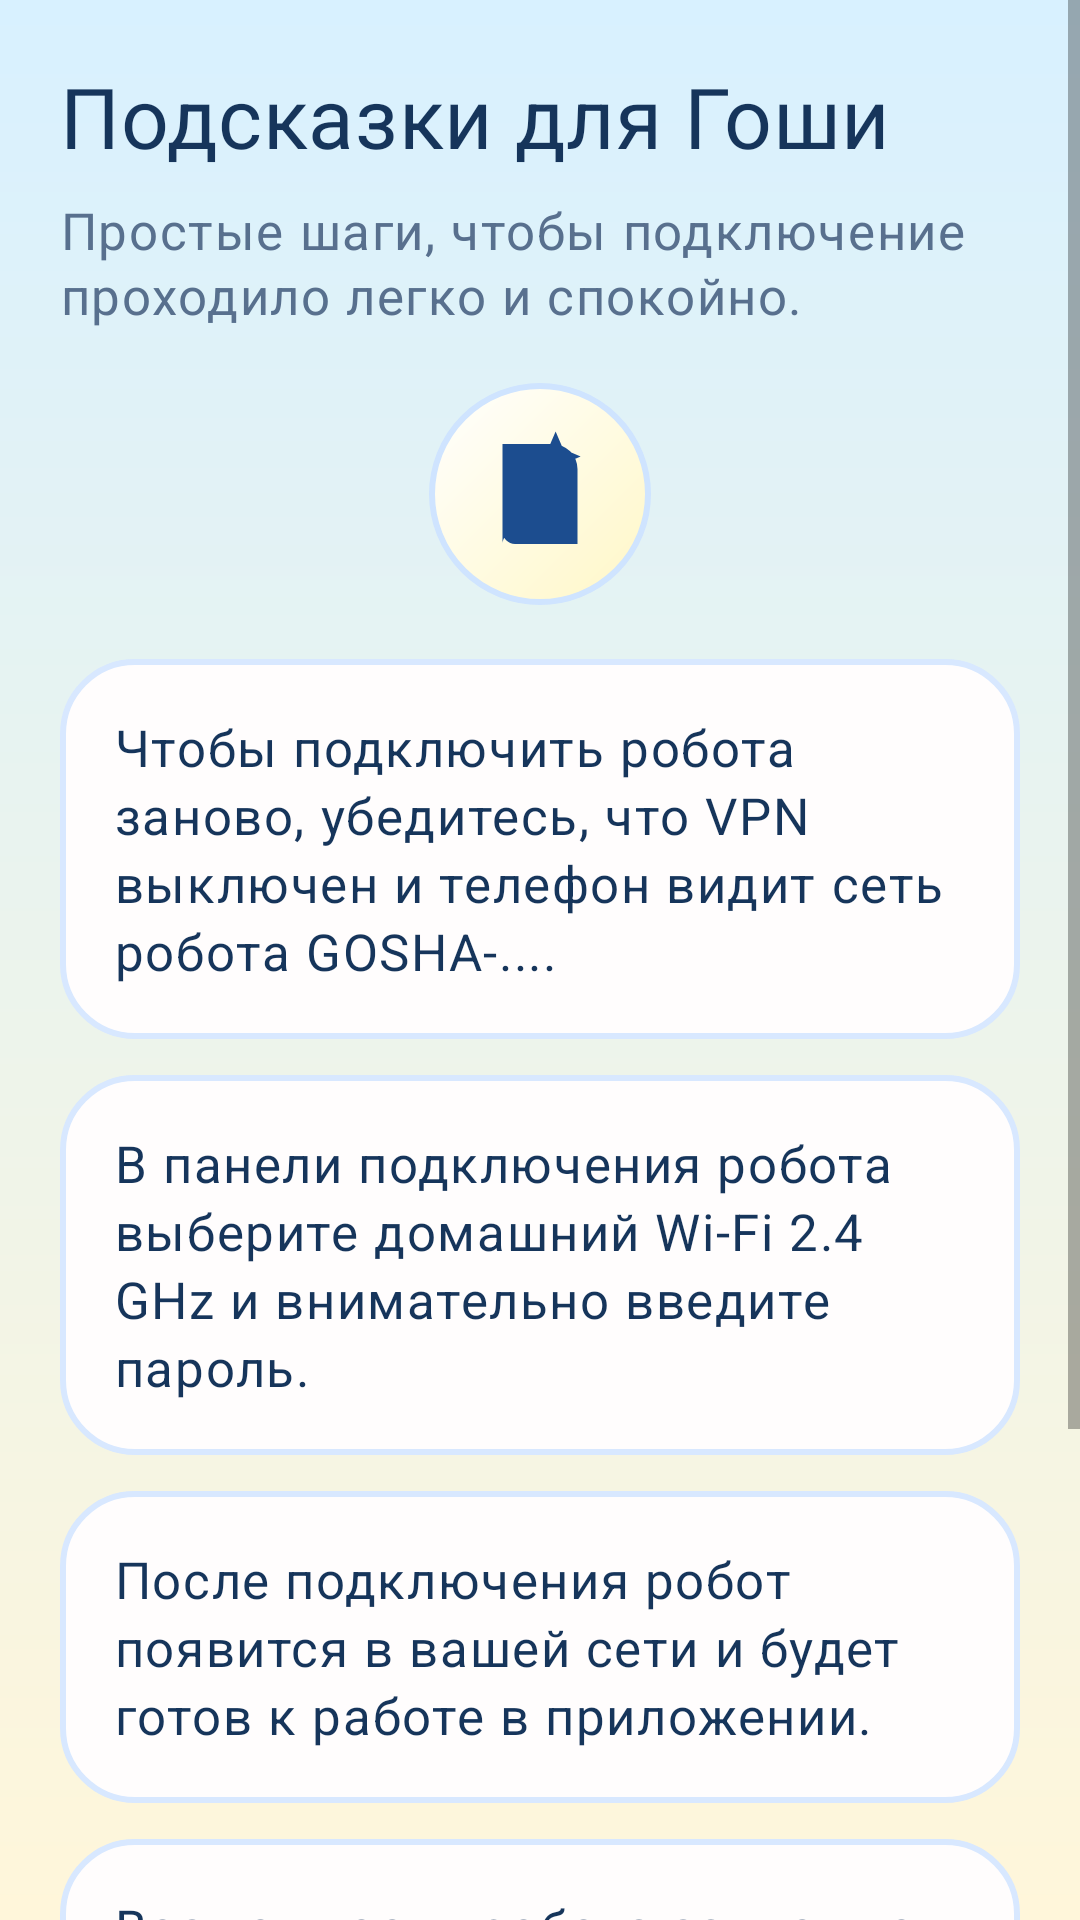

Icons on this 1080w x 1920h Android screen, each with the point to tap as (x,y):
Инструкции: (540,494)
